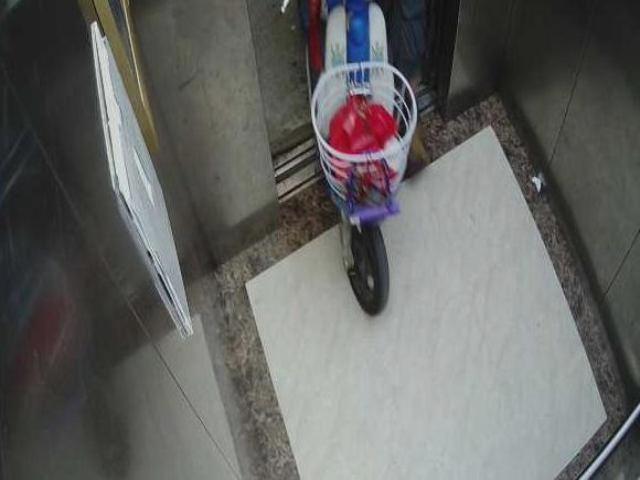emotor: (278, 16, 414, 325)
